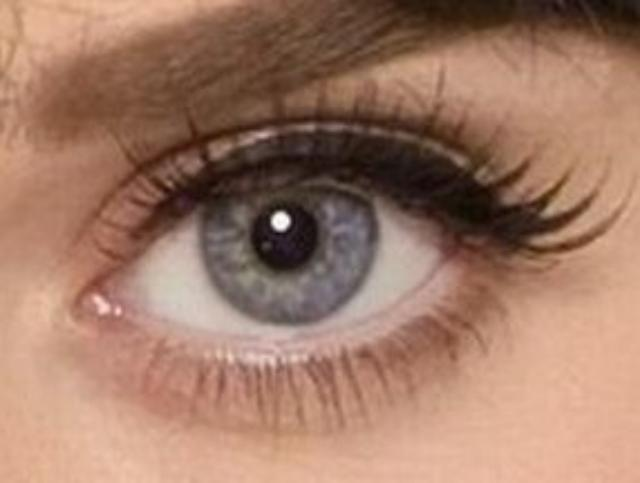eye: (200, 146, 378, 328)
